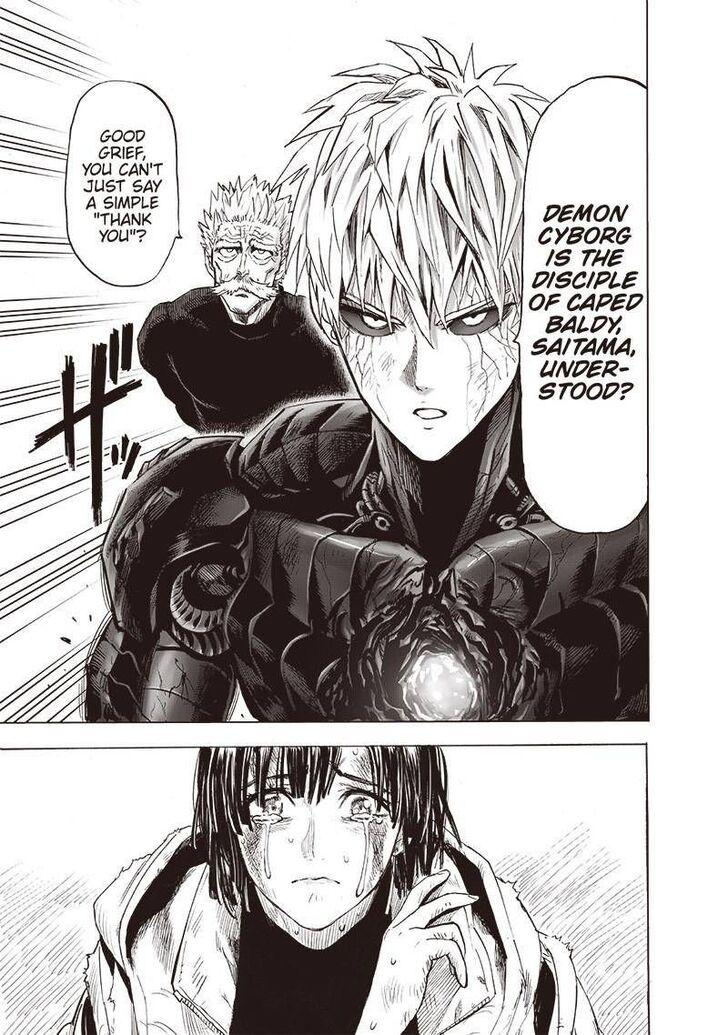Bubble: (516, 75, 651, 536), (60, 78, 184, 288)
